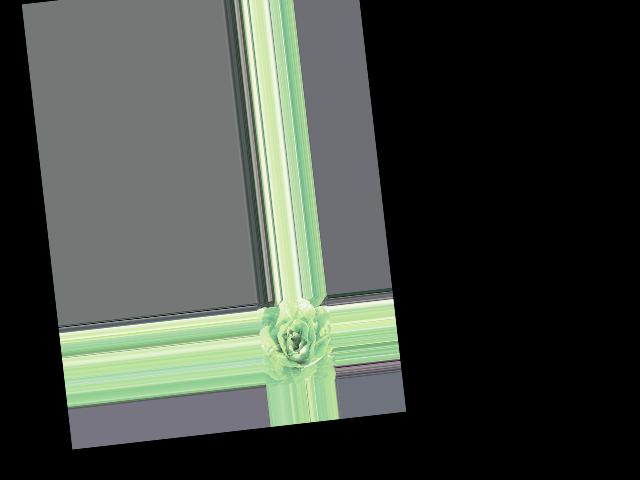lettuce: (258, 298, 337, 385)
